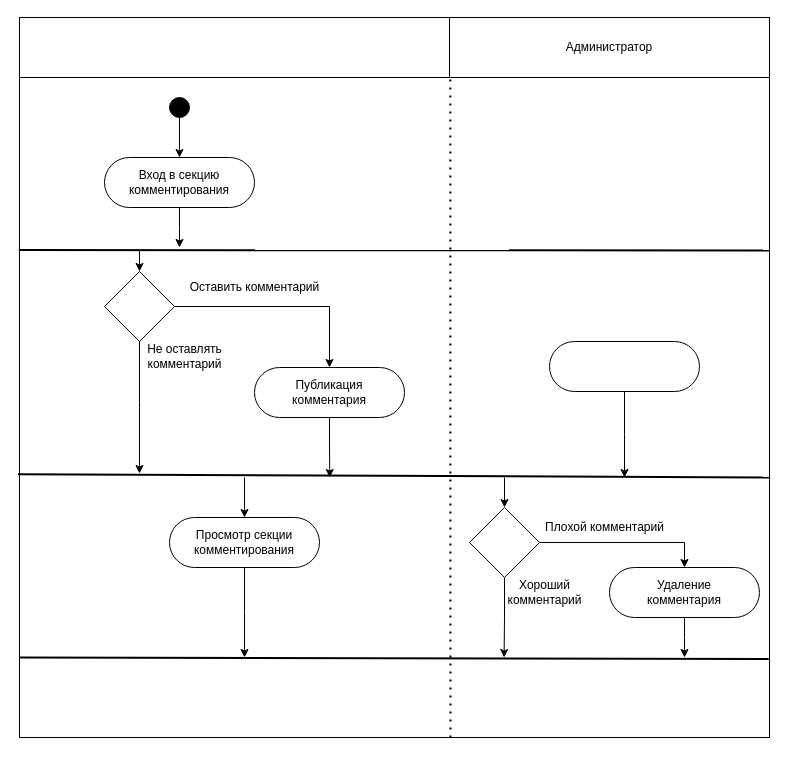
This 790x757 diagram has some shape labels left out. Here are the shapes that lost their labels. From the top down, the centre of each, then its label:
At point (234, 47): "Пользователь".
At point (624, 366): "Проверка комментария пользователя".
